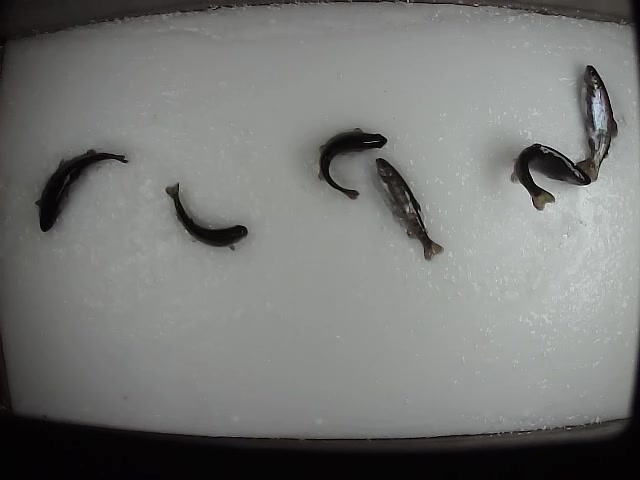fish: (34, 144, 131, 233), (371, 154, 446, 263), (163, 181, 248, 252), (509, 142, 591, 211), (572, 63, 619, 182), (314, 126, 388, 199)
